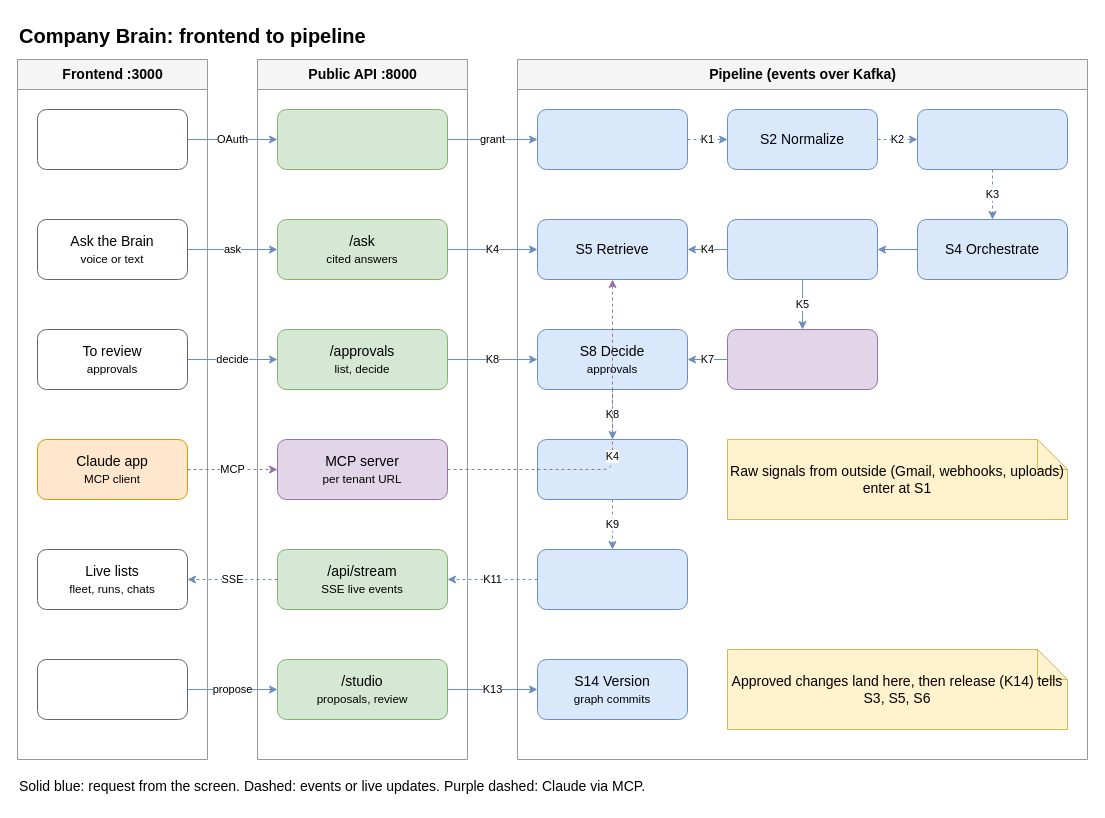
This 1105x818 diagram has some shape labels left out. The box of each missing label's shape, as (x1, y1, x2, y2) in pixels:
/connections OAuth, grants: (276, 108, 448, 170)
Connect setup: (36, 108, 188, 170)
S1 Capture: (536, 108, 688, 170)
S10 Record trace, audit, UI events: (536, 548, 688, 610)
S3 Route: (916, 108, 1068, 170)
S6 Reason: (726, 218, 878, 280)
S7 Govern rules, criticality: (726, 328, 878, 390)
S9 Act tools, outside systems: (536, 438, 688, 500)
Workflow Studio design changes: (36, 658, 188, 720)
